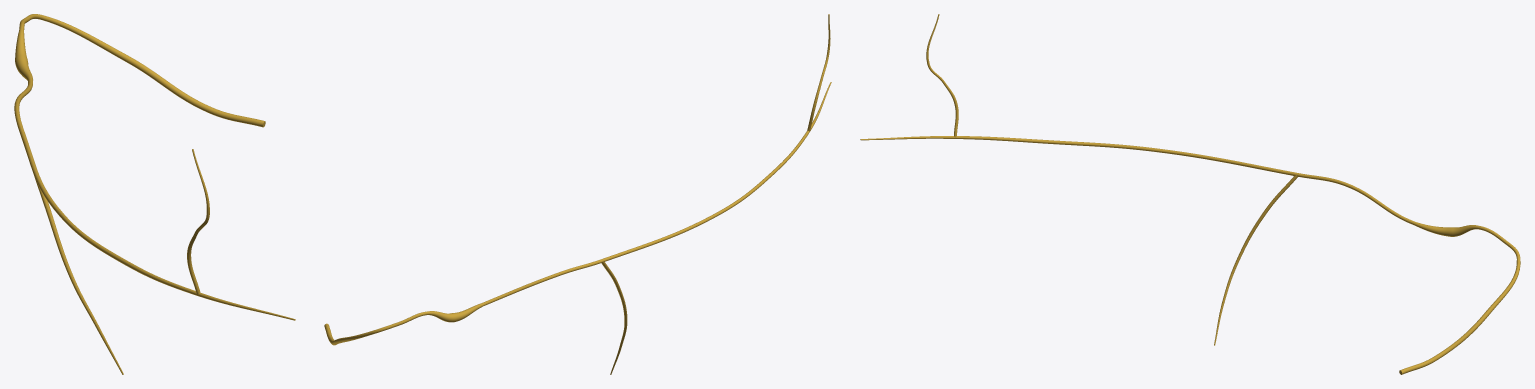
3 renders of one model, left to right at view 1: azimuth 30°, elevation 25°; view 2: azimuth 150°, elevation 25°; view 3: azimuth 270°, elevation 25°, orthographic. The views are drawn at different scales.
Parts seen in each view (by area): view 1: 右侧上颌神经脑膜支; view 2: 右侧上颌神经脑膜支; view 3: 右侧上颌神经脑膜支.
Part boxes in pixels (left/top/right/bottom): 右侧上颌神经脑膜支: left=14, top=14, right=295, bottom=374; 右侧上颌神经脑膜支: left=324, top=14, right=831, bottom=374; 右侧上颌神经脑膜支: left=860, top=14, right=1520, bottom=374.
Size of the model in its own units: 0.079 by 0.0764 by 0.1576.
